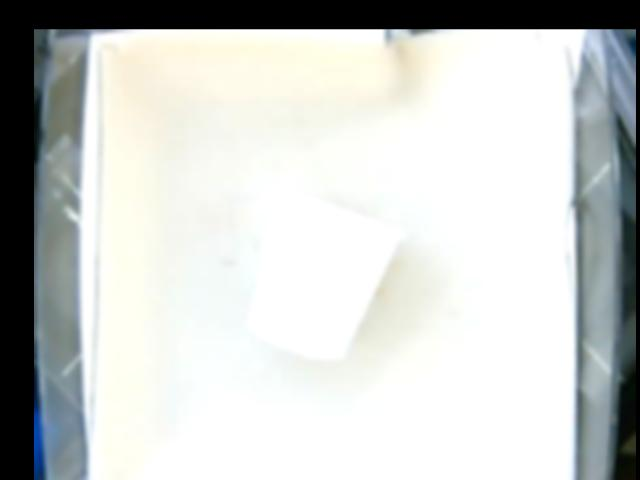Cup: (247, 190, 398, 365)
